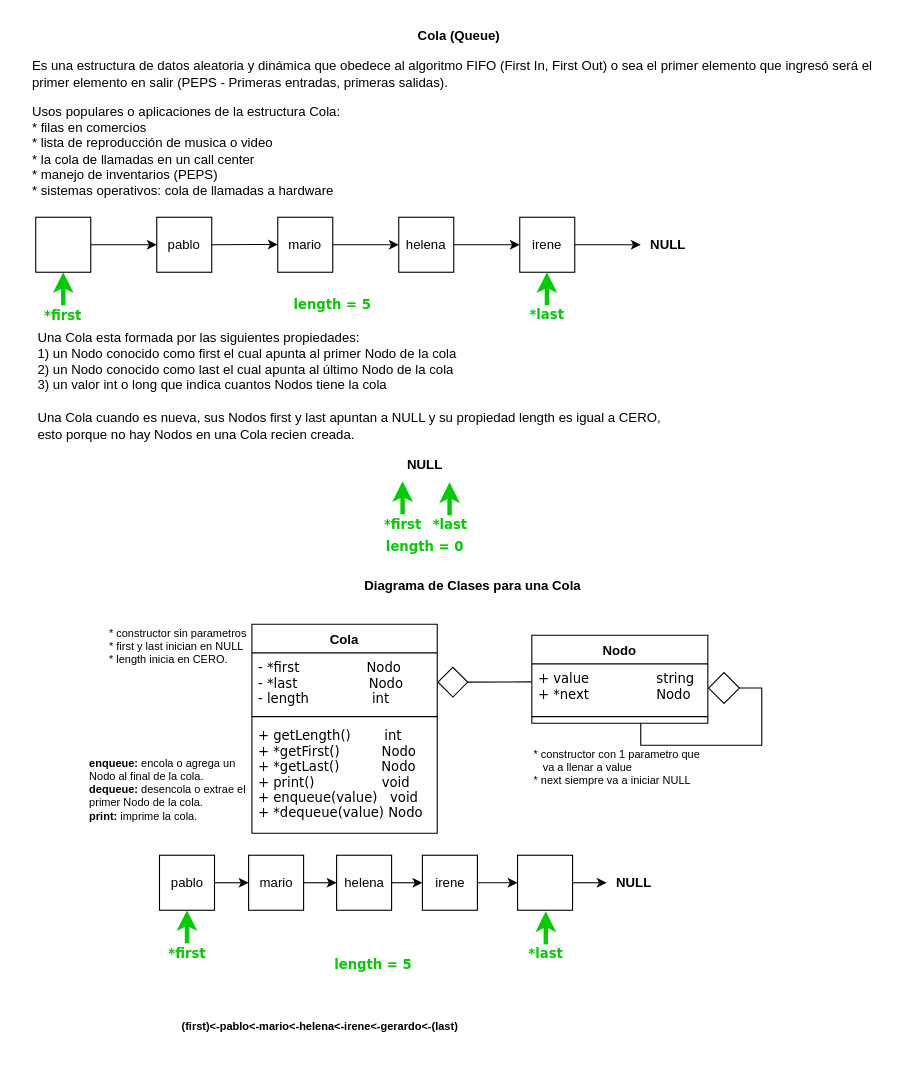
Some shapes in this 923 by 1071 pixel diagram are drawn without their labels. The shapes that lost their labels are listed below. From the top down, each one's centre as x and y in pixels, then its label:
At point (63, 244): "pedro".
At point (544, 882): "gerardo".
